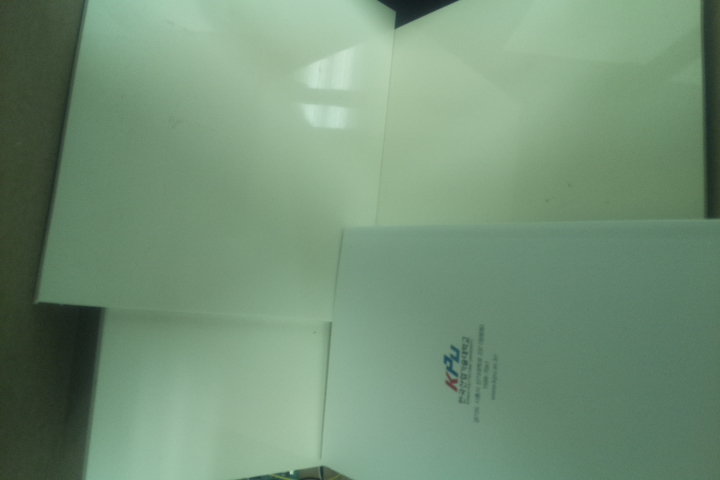book: (318, 219, 720, 479)
